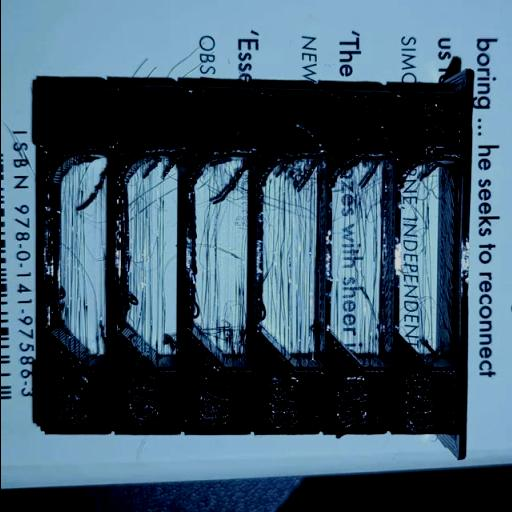stringing: (392, 152, 462, 368), (120, 150, 182, 372), (191, 152, 253, 372), (254, 154, 314, 372), (326, 154, 386, 372), (49, 154, 106, 372)
